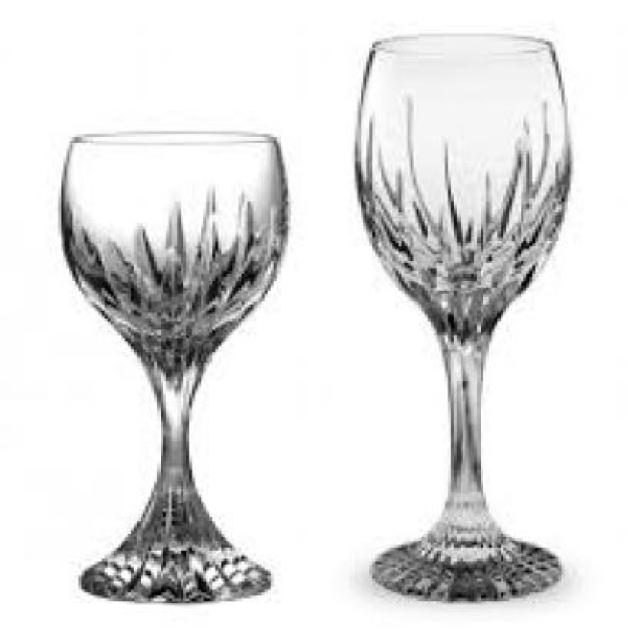kaca: (356, 31, 564, 598), (56, 130, 284, 598)
